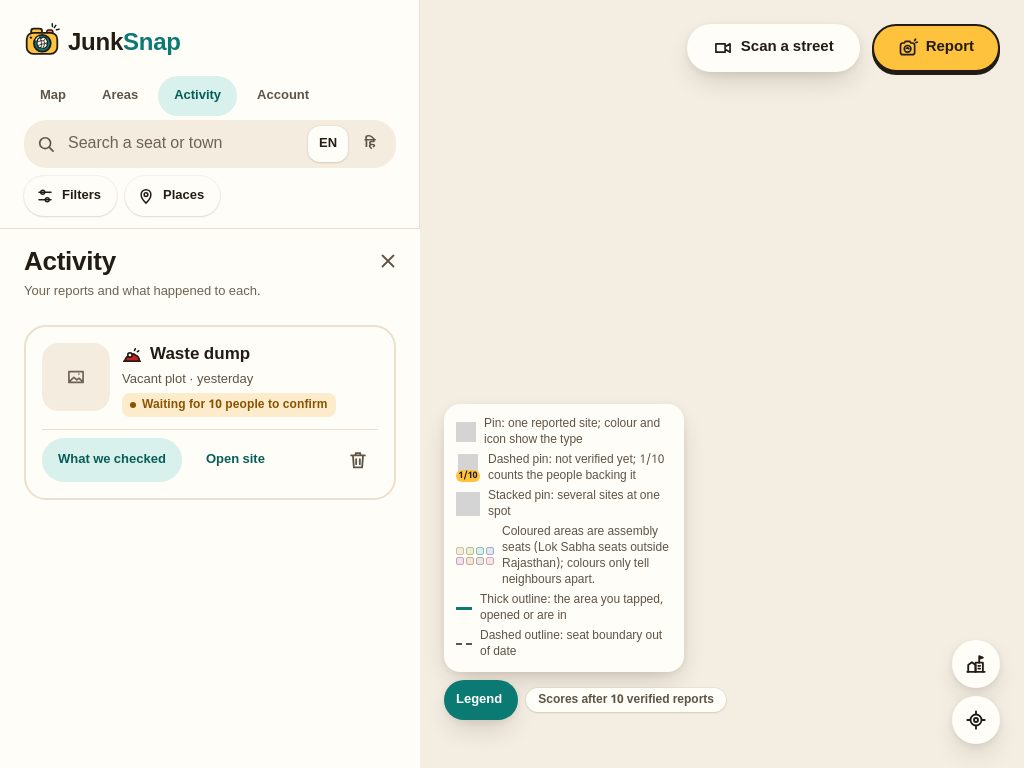
Test case: deleting from Activity without a site to change › keeps the row and says so when the withdrawal fails
Click the button named "Delete" at {"x": 358, "y": 460}, box x1=338 y1=440 x2=378 y2=480
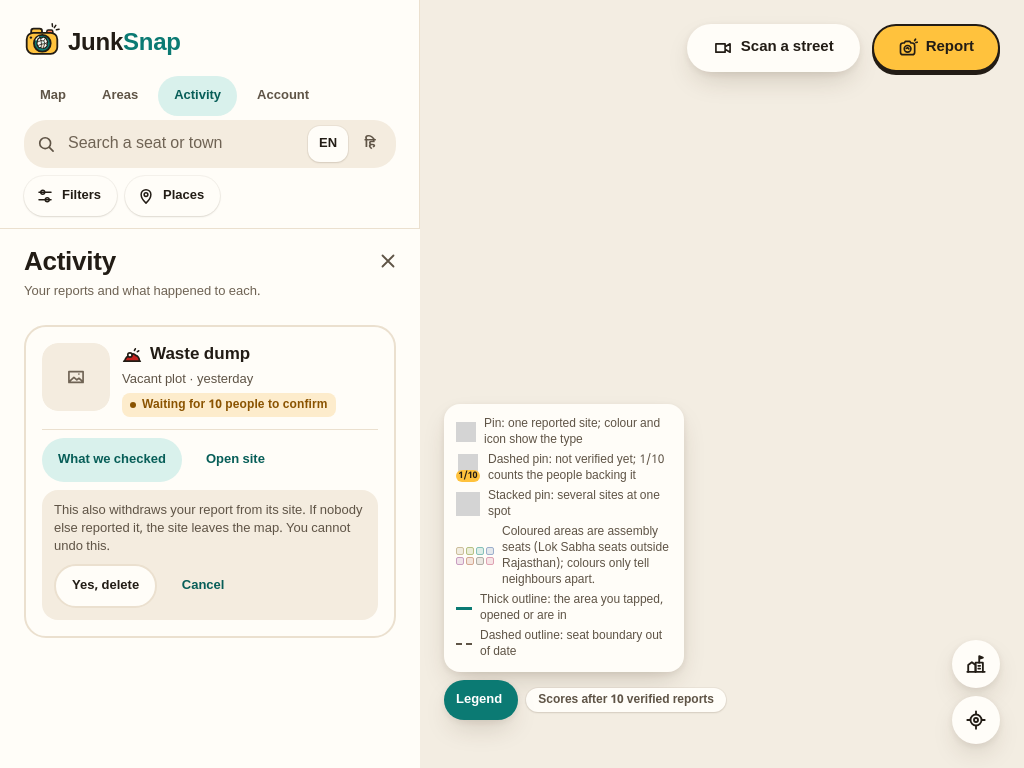
Click the button "Yes, delete" at {"x": 106, "y": 586}, box x1=54 y1=564 x2=157 y2=608
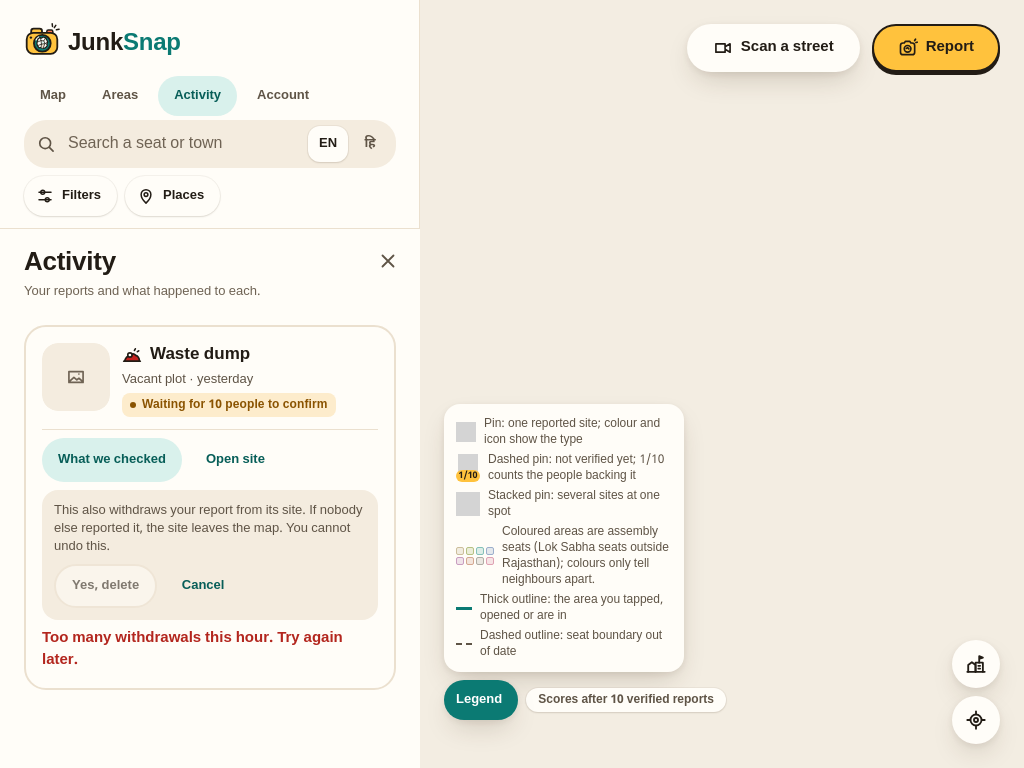
Expected: the message shows "Too many withdrawals this hour.", x1=42 y1=629 x2=343 y2=670
